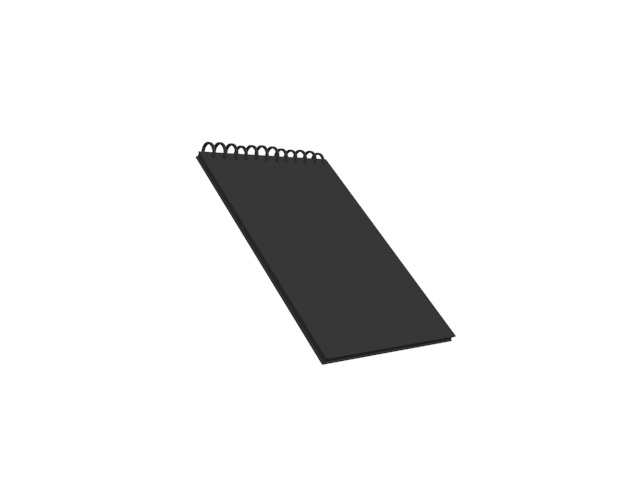paper_notebook: (193, 137, 456, 368)
